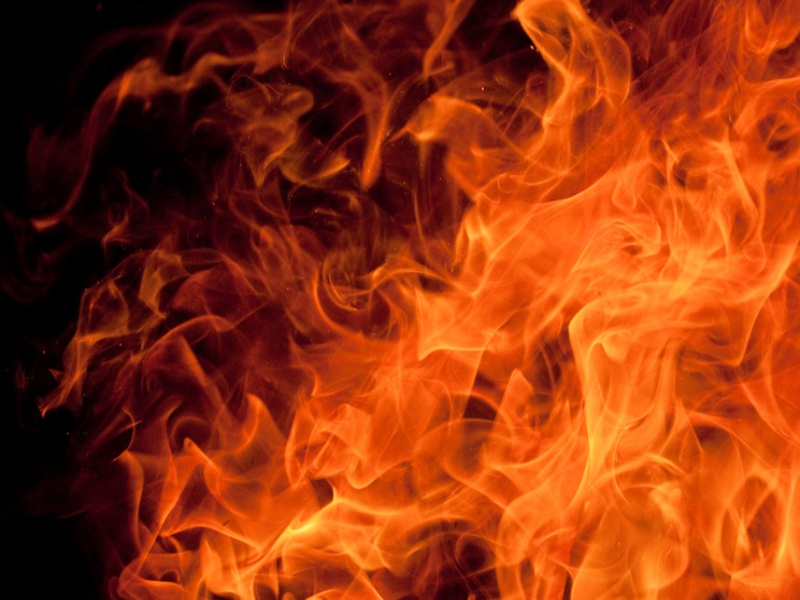fire: (31, 2, 800, 596)
